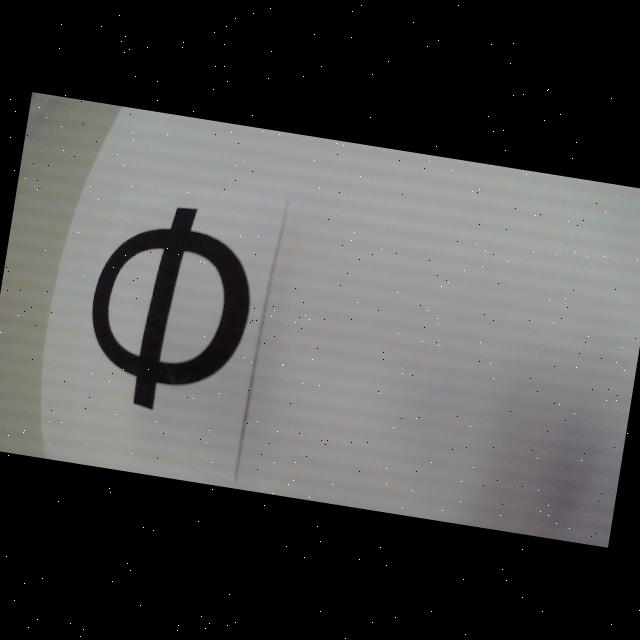PHI: (77, 194, 265, 425)
